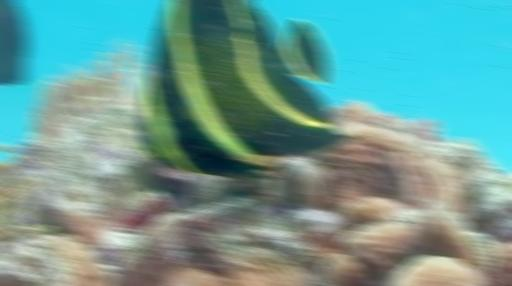Fish: (138, 0, 351, 175), (0, 0, 28, 86)
